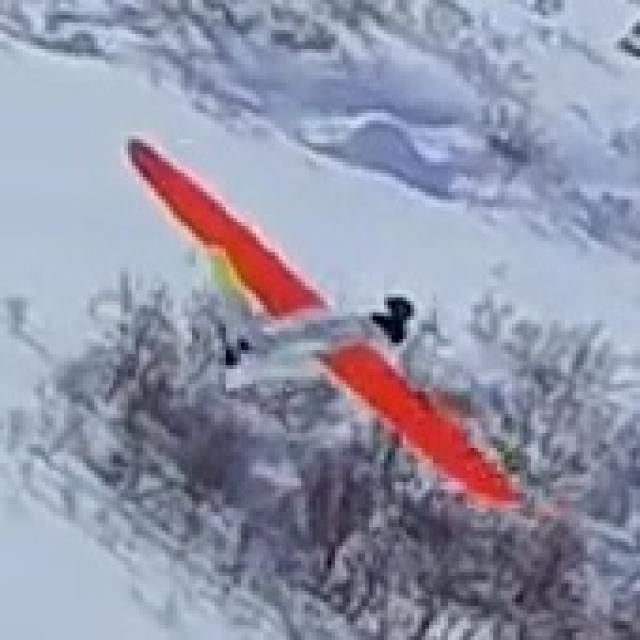iha: (117, 129, 531, 519)
